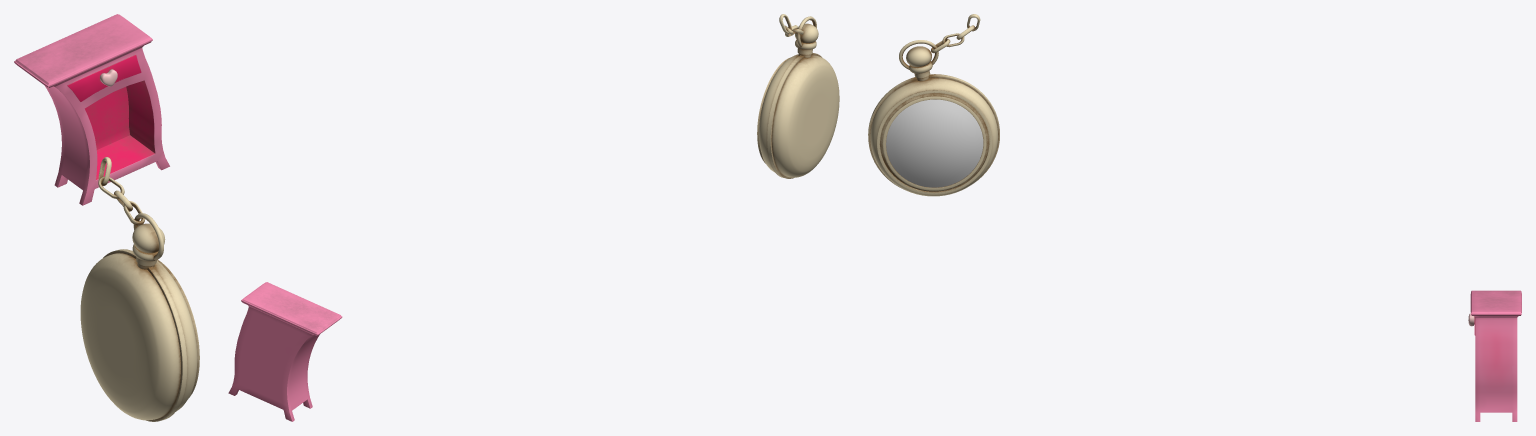
The model's file is RELOJ_BOLSILLO+MESA_CURVADA.fbx.
The picture shows the model from 3 angles, left to right: view 1: azimuth 30°, elevation 25°; view 2: azimuth 150°, elevation 25°; view 3: azimuth 270°, elevation 25°; orthographic projection. The views are drawn at different scales.
Visible parts, largest first — view 1: mesa.001, RELOJ BASE.001, Sphere.055, NurbsPath.012, Torus.005, corazon.mesa.001, Torus.006, Torus.007, Torus.009; view 2: mesa.001, RELOJ BASE.001; view 3: VIDRIO.001, RELOJ BASE.001, mesa.001.
Part boxes in pixels (bbox=[...]): mesa.001: bbox=[14, 14, 169, 205]; RELOJ BASE.001: bbox=[80, 249, 199, 421]; Sphere.055: bbox=[132, 223, 165, 253]; NurbsPath.012: bbox=[133, 213, 163, 260]; Torus.005: bbox=[98, 157, 111, 186]; corazon.mesa.001: bbox=[100, 69, 117, 86]; Torus.006: bbox=[98, 176, 124, 198]; Torus.007: bbox=[123, 201, 144, 225]; Torus.009: bbox=[132, 244, 158, 261]; mesa.001: bbox=[228, 282, 342, 421]; RELOJ BASE.001: bbox=[757, 53, 839, 178]; VIDRIO.001: bbox=[886, 99, 983, 187]; RELOJ BASE.001: bbox=[868, 74, 999, 196]; mesa.001: bbox=[1470, 290, 1521, 421].
Bounding box in the file's own units: 923 × 780 × 1673.
